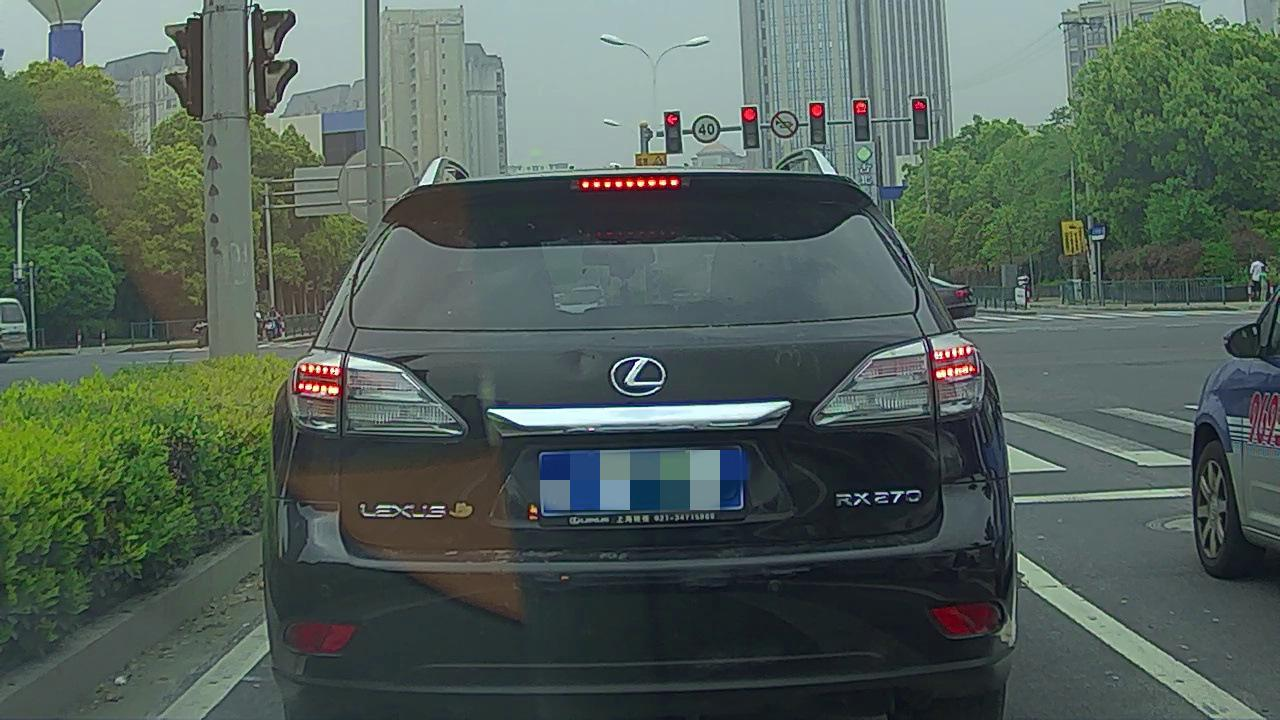traffic_light: (741, 106, 761, 150), (664, 112, 682, 154), (809, 102, 825, 144)
